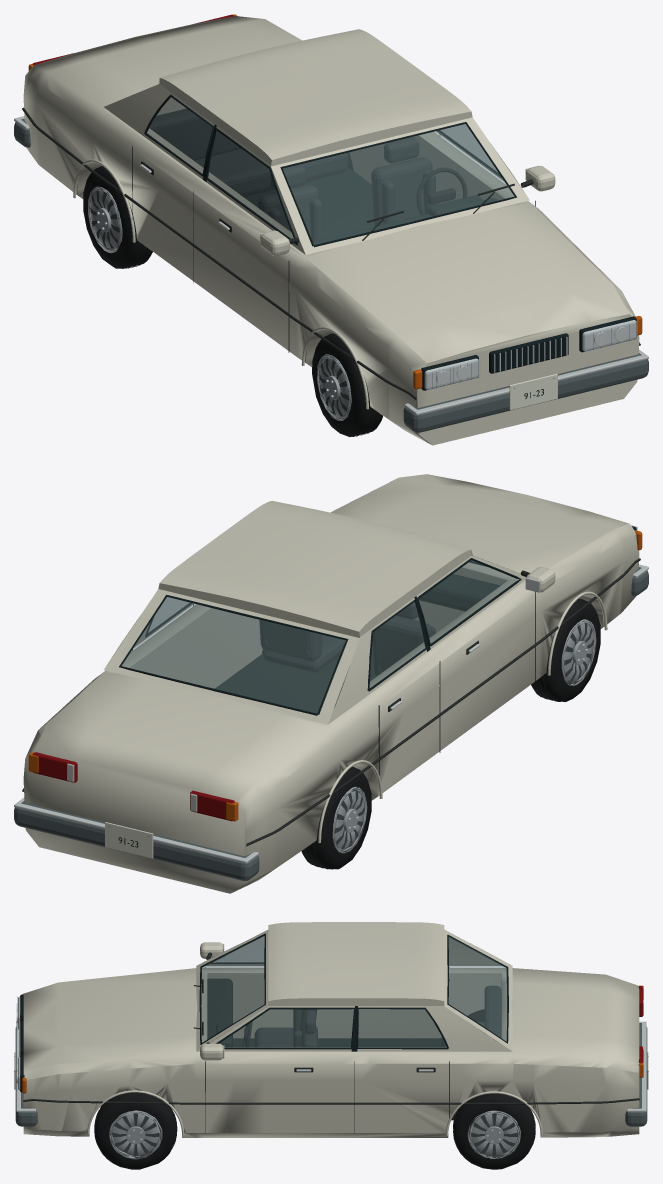
The model's file is crown-sedan-lod1.glb.
3 views of the same model, one above another, from view 1: azimuth 30°, elevation 25°; view 2: azimuth 150°, elevation 25°; view 3: azimuth 270°, elevation 25° (orthographic). The views are drawn at different scales.
Visible parts, largest first — view 1: formed steel body, windshield, cloth cushion, windshield gasket, tire casing, interior floor, bumper, steering rim, rim bead, belt molding, headlamp reflector, fluted headlamp cover (+2 smaller); view 2: formed steel body, windshield, interior floor, cloth cushion, tire casing, bumper, windshield gasket, rim bead, steering rim, belt molding, rear combination lamp, registration plate (+1 smaller); view 3: formed steel body, windshield, tire casing, windshield gasket, rim bead, interior floor, steering rim, cloth cushion, headrest post, bumper, belt molding.
Boxes of the visible parts, box(x1,y1,x2,y2) form: formed steel body: box(23, 16, 639, 445); windshield: box(146, 97, 514, 246); cloth cushion: box(149, 108, 435, 241); windshield gasket: box(132, 94, 636, 390); tire casing: box(83, 152, 382, 436); interior floor: box(244, 167, 497, 244); bumper: box(14, 118, 648, 432); steering rim: box(22, 107, 640, 436); rim bead: box(88, 186, 351, 420); belt molding: box(14, 116, 648, 415); headlamp reflector: box(424, 320, 636, 389); fluted headlamp cover: box(426, 321, 637, 390); formed steel body: box(23, 474, 639, 893); windshield: box(121, 560, 519, 713); interior floor: box(215, 574, 500, 713); cloth cushion: box(259, 602, 435, 676); tire casing: box(301, 599, 600, 869); bumper: box(14, 567, 648, 880); windshield gasket: box(119, 526, 636, 775); rim bead: box(332, 619, 596, 853); steering rim: box(22, 558, 640, 869); belt molding: box(14, 564, 648, 863); rear combination lamp: box(32, 752, 234, 821); registration plate: box(105, 822, 153, 858); formed steel body: box(23, 922, 639, 1137); windshield: box(201, 935, 507, 1047); tire casing: box(94, 1011, 535, 1169); windshield gasket: box(20, 933, 508, 1133); rim bead: box(109, 1110, 520, 1159); interior floor: box(207, 978, 484, 1120); steering rim: box(23, 952, 639, 1149); cloth cushion: box(254, 985, 501, 1047); headrest post: box(14, 1056, 648, 1157); bumper: box(15, 1023, 647, 1126); belt molding: box(16, 944, 646, 1142).
Bounding box in the file's own units: 1.96 × 1.41 × 4.83.
